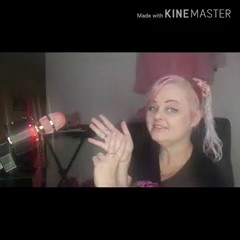V: (86, 110, 141, 185)
